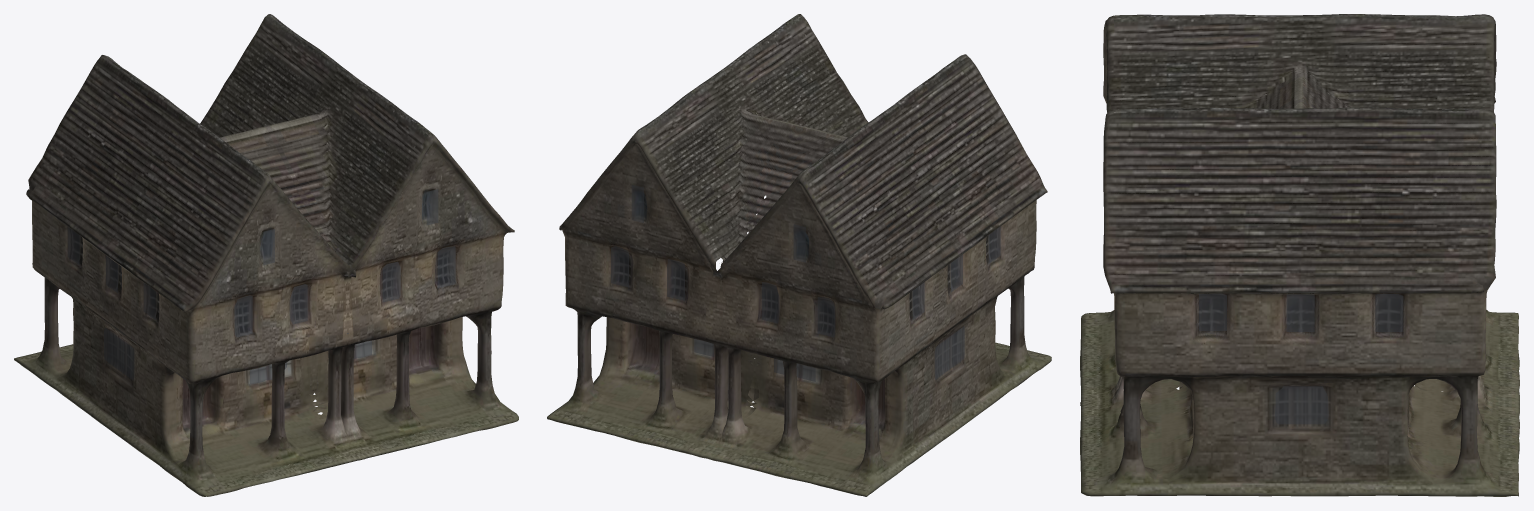
The model's file is cottage-ville-002.glb.
3 views of the same model, side by side, from view 1: azimuth 30°, elevation 25°; view 2: azimuth 150°, elevation 25°; view 3: azimuth 270°, elevation 25° (orthographic). The views are drawn at different scales.
Visible parts, largest first — view 1: tripo_node_2e2d164f, fenetre.001; view 2: tripo_node_2e2d164f, fenetre.001; view 3: tripo_node_2e2d164f, fenetre.001.
Boxes of the visible parts, x1=… form: tripo_node_2e2d164f: x1=14, y1=14, x2=518, y2=496; fenetre.001: x1=67, y1=189, x2=455, y2=384; tripo_node_2e2d164f: x1=547, y1=14, x2=1051, y2=496; fenetre.001: x1=611, y1=185, x2=1000, y2=381; tripo_node_2e2d164f: x1=1080, y1=14, x2=1519, y2=496; fenetre.001: x1=1199, y1=293, x2=1403, y2=424.
Bounding box in the file's own units: 40.1 × 34.74 × 39.88.
Materials: 4 (1 with a texture image).
